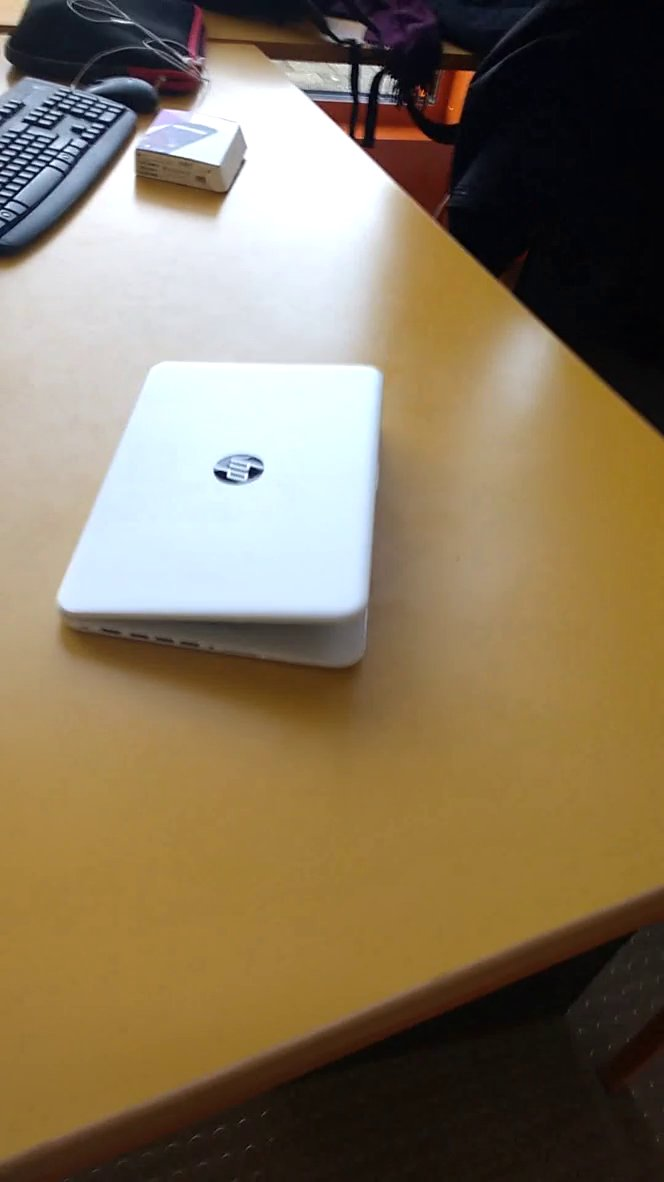laptop: (36, 344, 420, 700)
